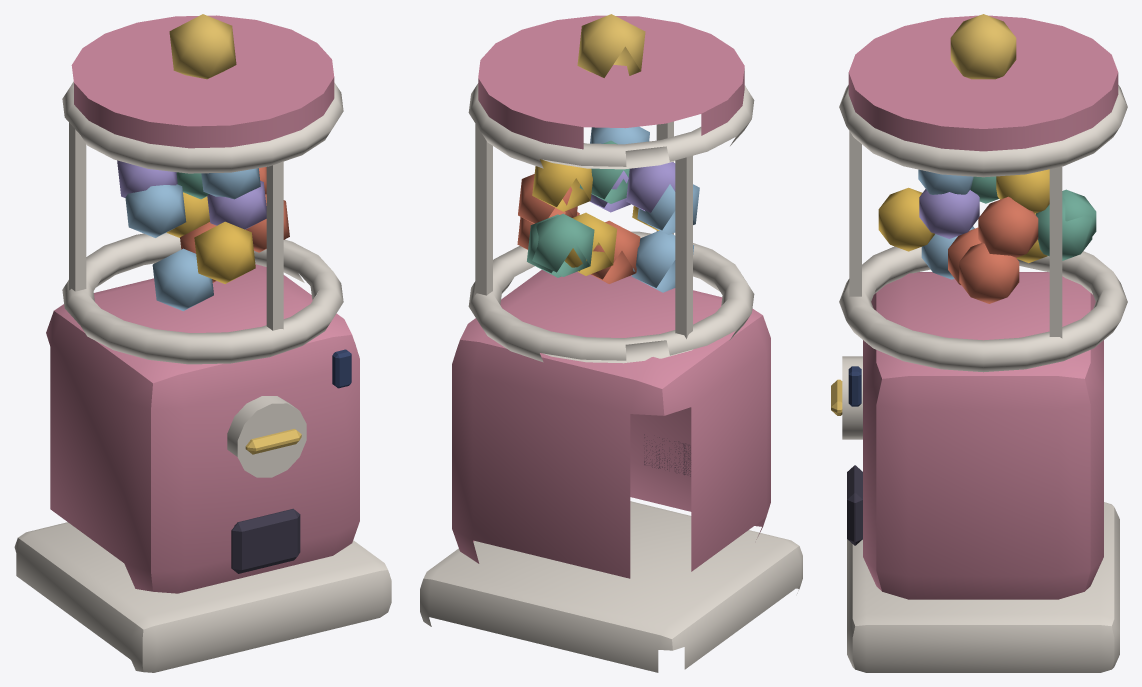
3 views of the same model, side by side, from view 1: azimuth 30°, elevation 25°; view 2: azimuth 150°, elevation 25°; view 3: azimuth 270°, elevation 25° (orthographic). The views are drawn at different scales.
Visible parts, largest first — view 1: box; view 2: box; view 3: box.
Part boxes in pixels (left/top/right/bottom): box: left=14, top=14, right=391, bottom=672; box: left=420, top=14, right=802, bottom=672; box: left=831, top=14, right=1127, bottom=672.
Bounding box in the file's own units: 0.9499 × 2.07 × 0.9249.
